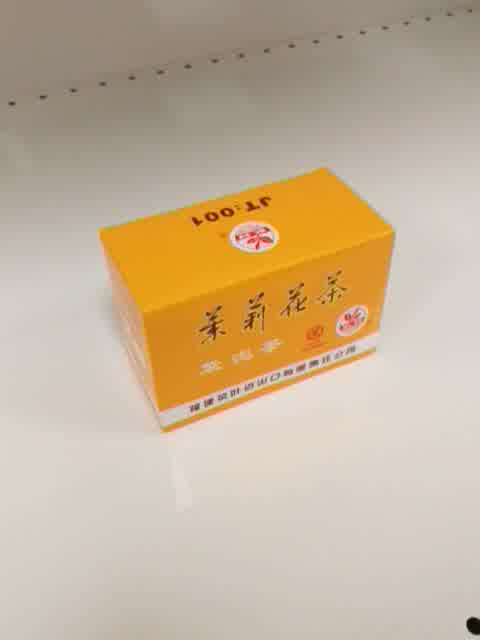jasminetea: (97, 168, 395, 432)
